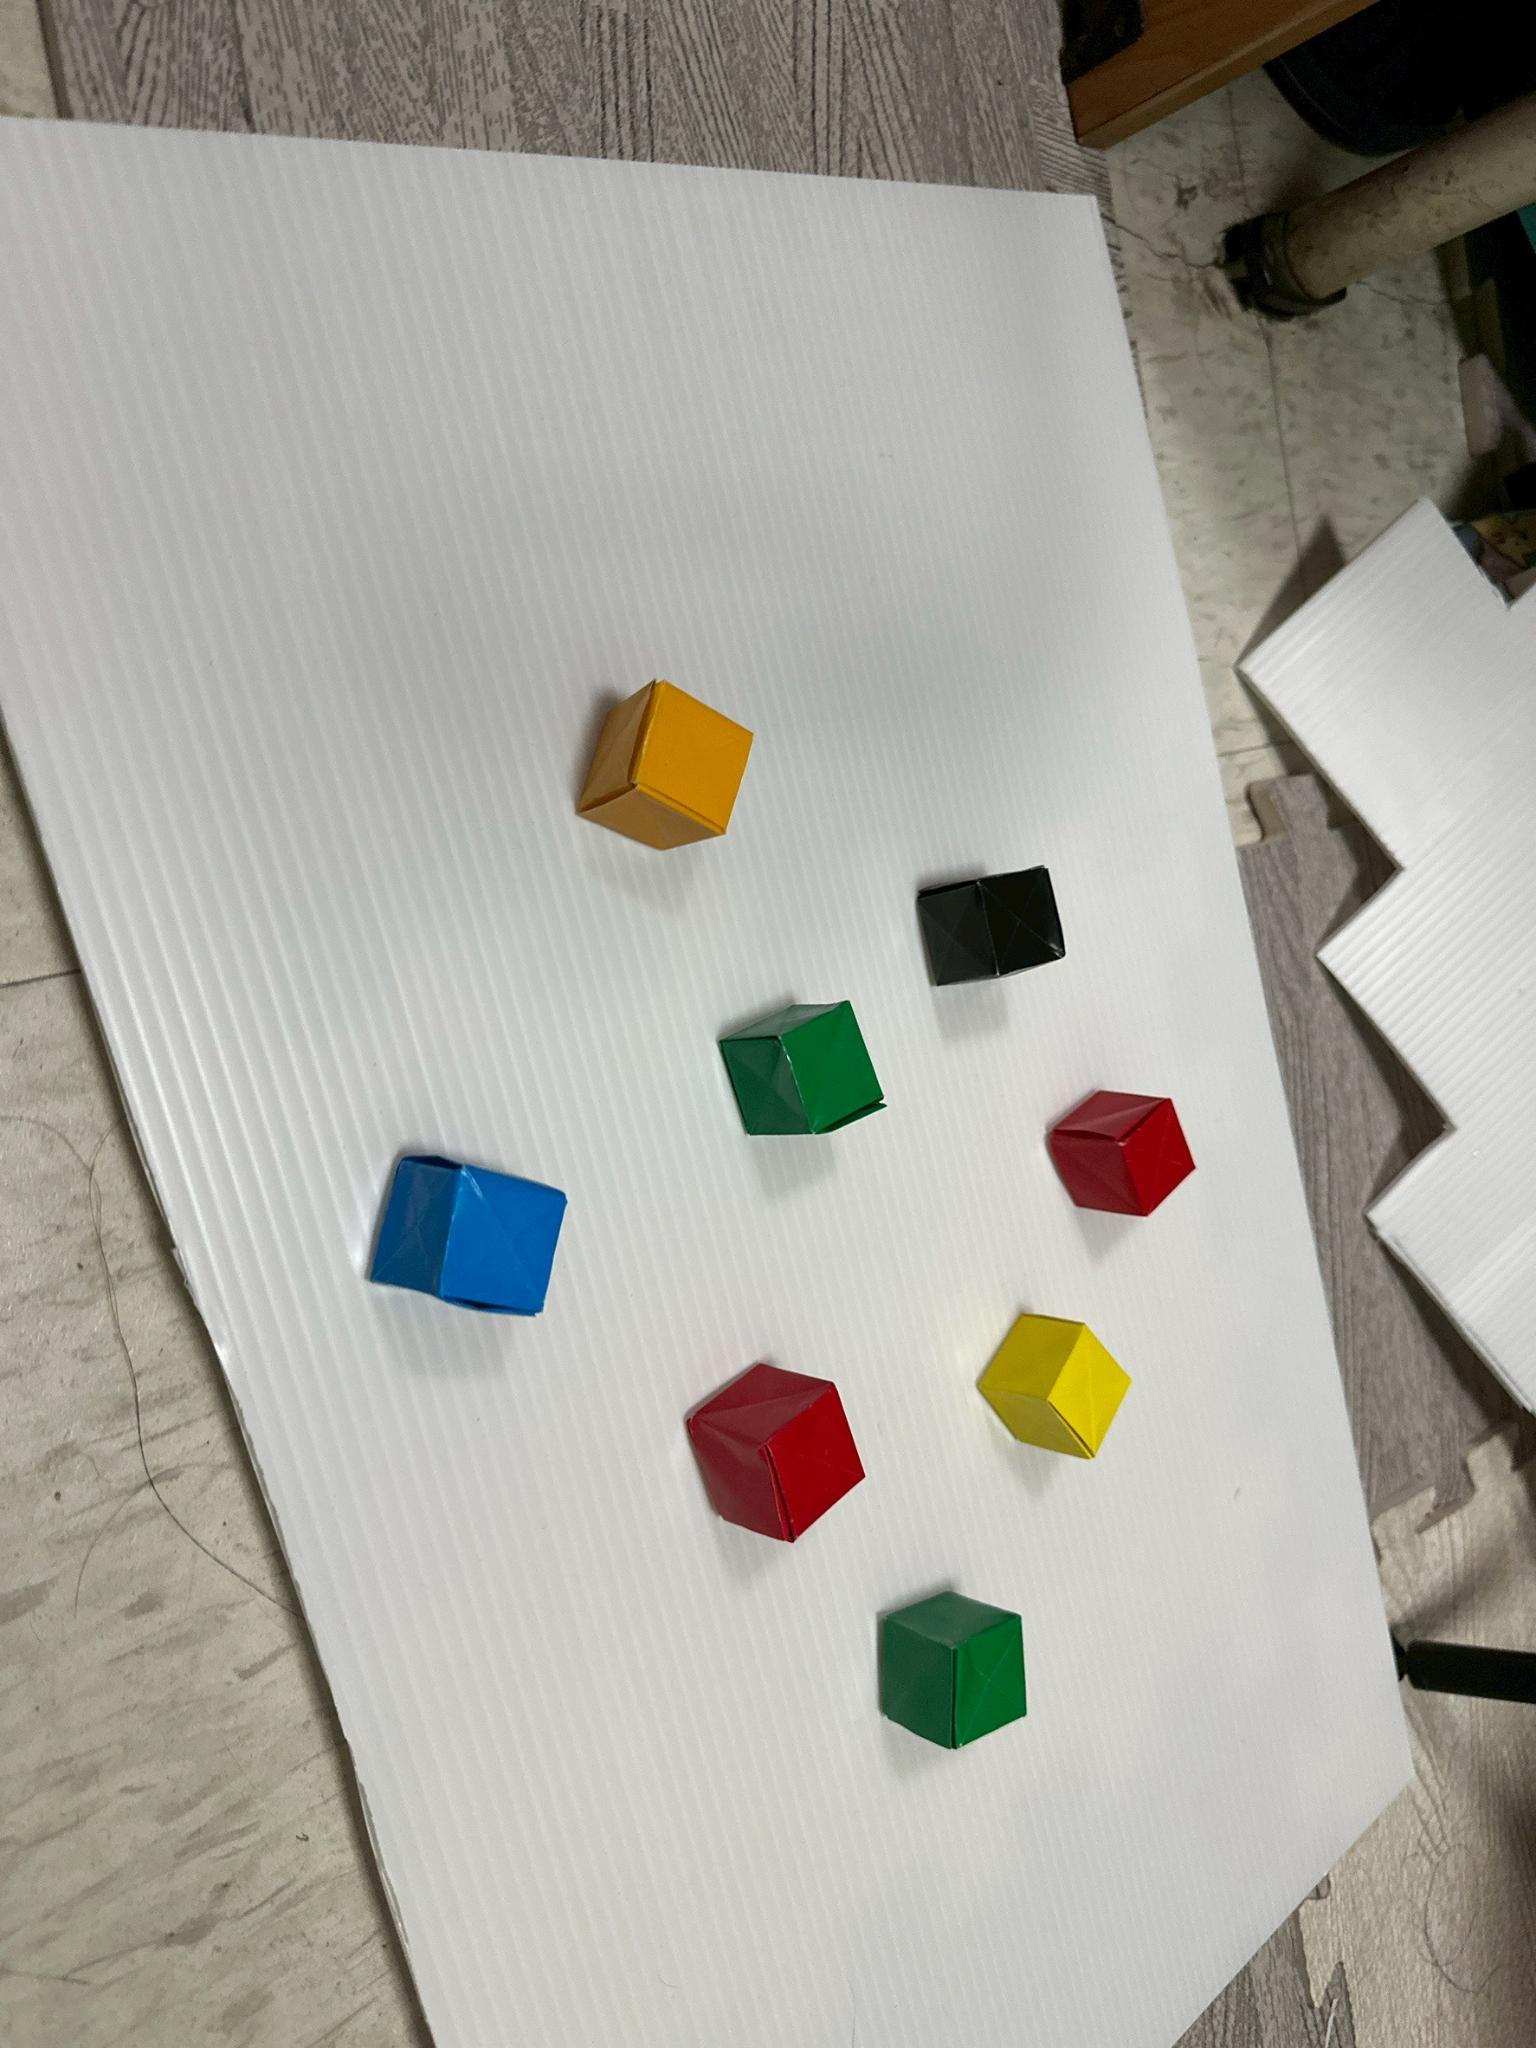base: (368, 1155, 566, 1316), (687, 1363, 865, 1540), (576, 681, 752, 848), (879, 1592, 1025, 1748), (979, 1313, 1131, 1456), (720, 1001, 883, 1134), (1049, 1090, 1194, 1214), (916, 868, 1065, 985)
